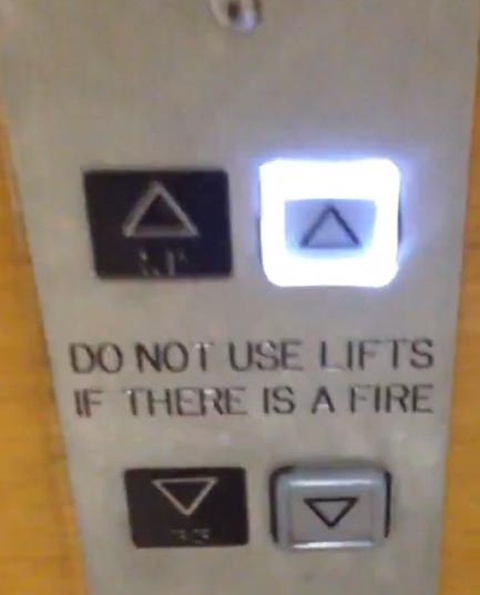down: (267, 462, 394, 555), (121, 463, 249, 551)
up: (255, 160, 404, 291), (81, 165, 235, 282)
